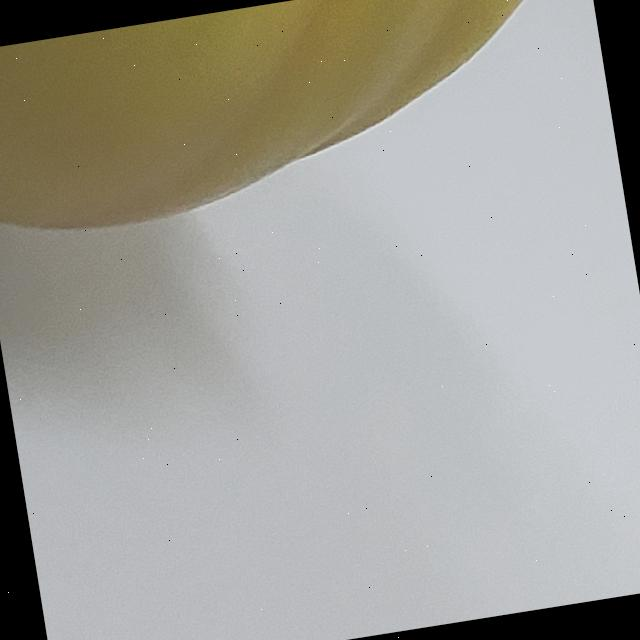tomato: (0, 0, 625, 303)
